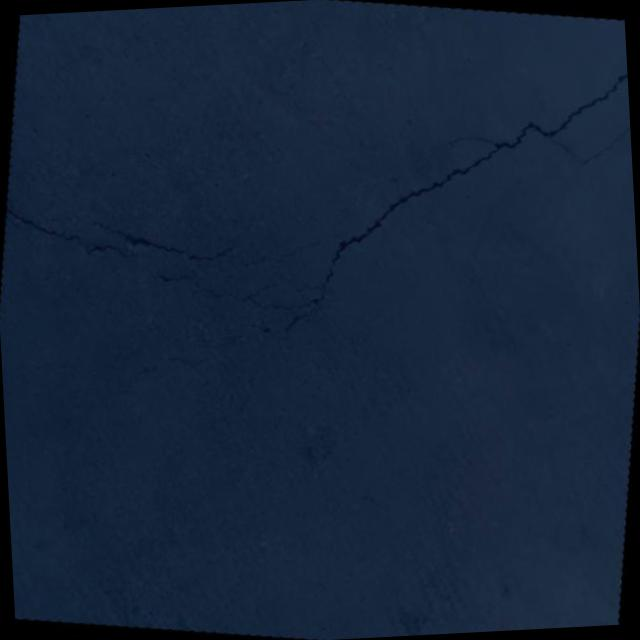crack: (111, 0, 640, 447), (47, 202, 324, 286), (2, 203, 136, 266), (21, 356, 116, 388)
